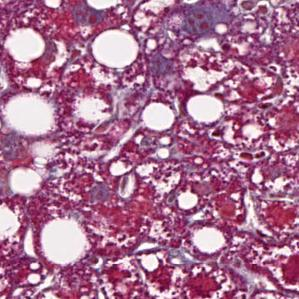steatosis: (40, 216, 88, 268), (91, 25, 142, 71), (9, 93, 58, 136), (2, 25, 51, 65), (185, 88, 227, 123), (139, 100, 179, 132)
